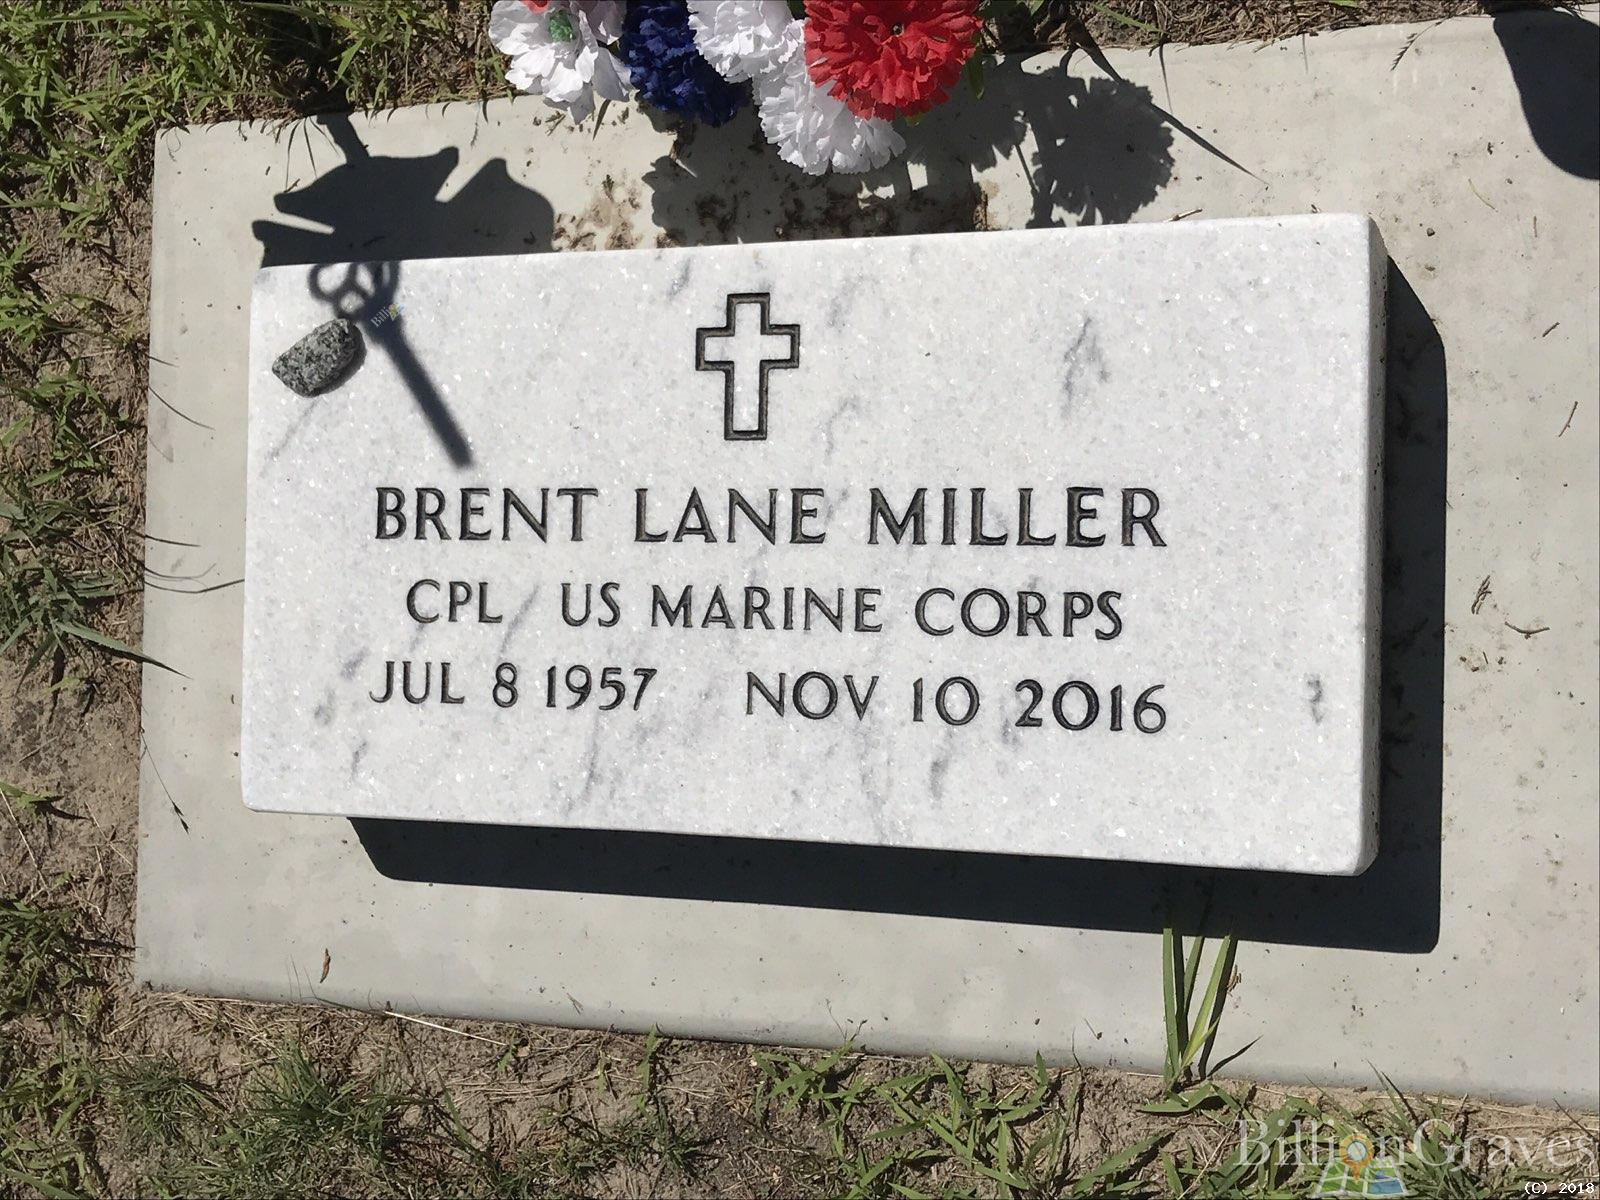flat: (236, 199, 1458, 877)
